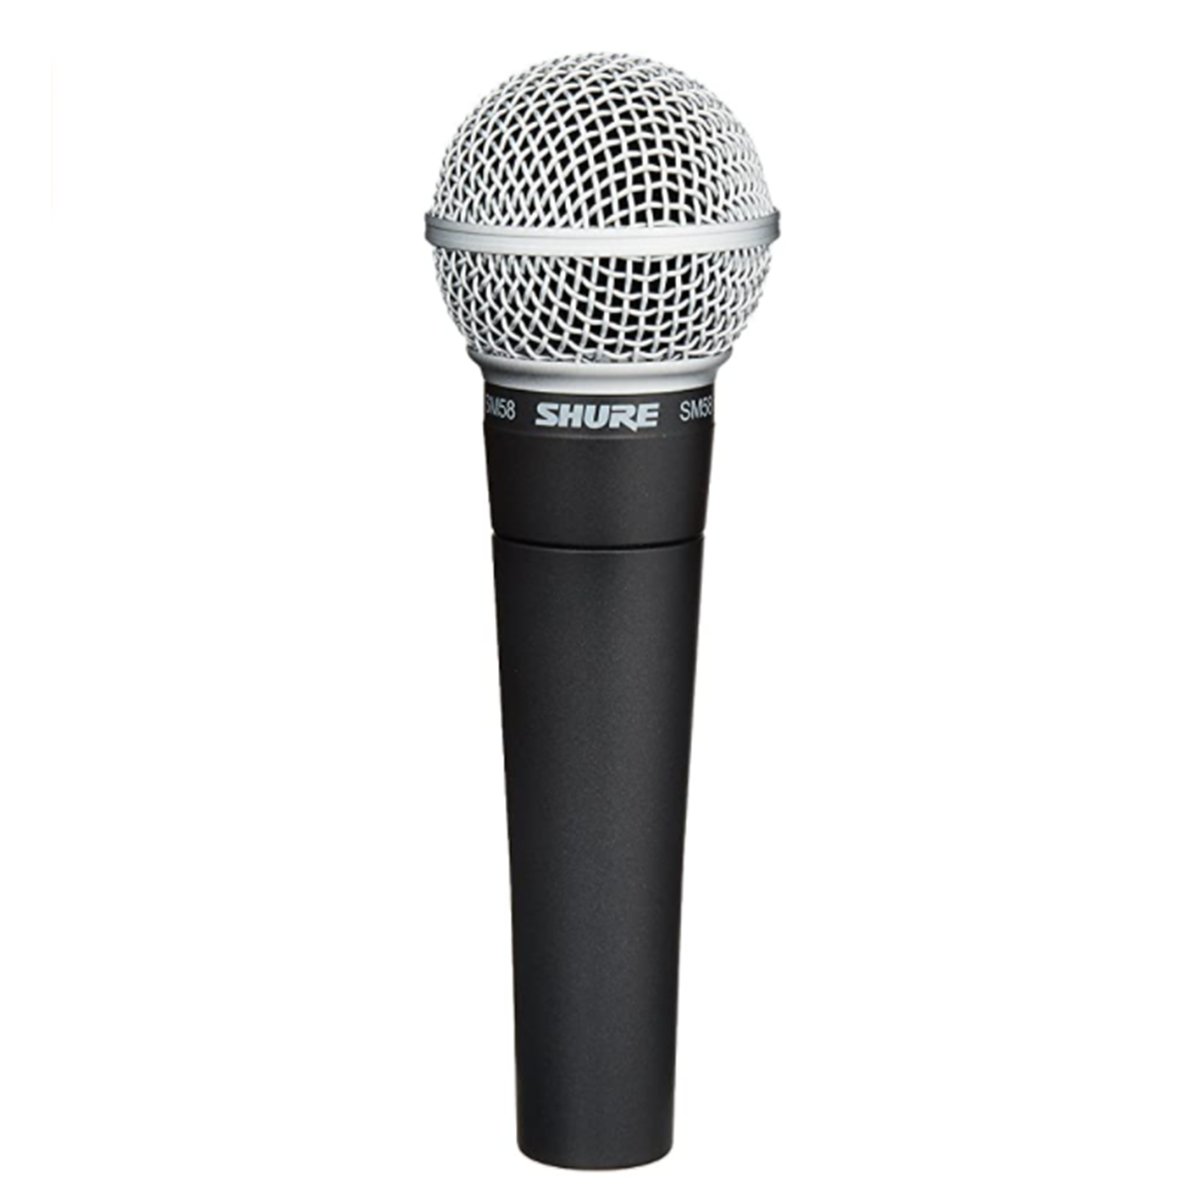microphone: (422, 47, 786, 1177)
